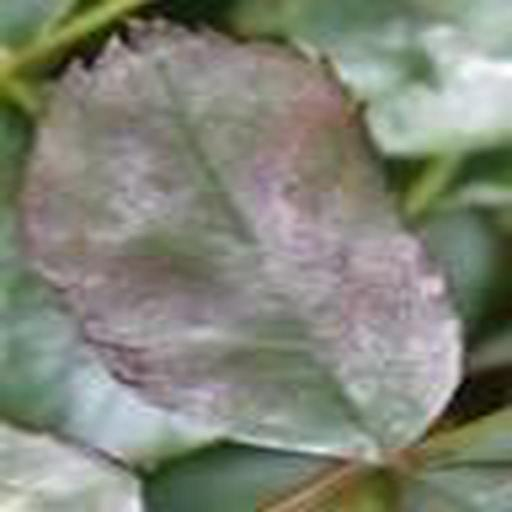powdery_mildew: (23, 24, 460, 455)
